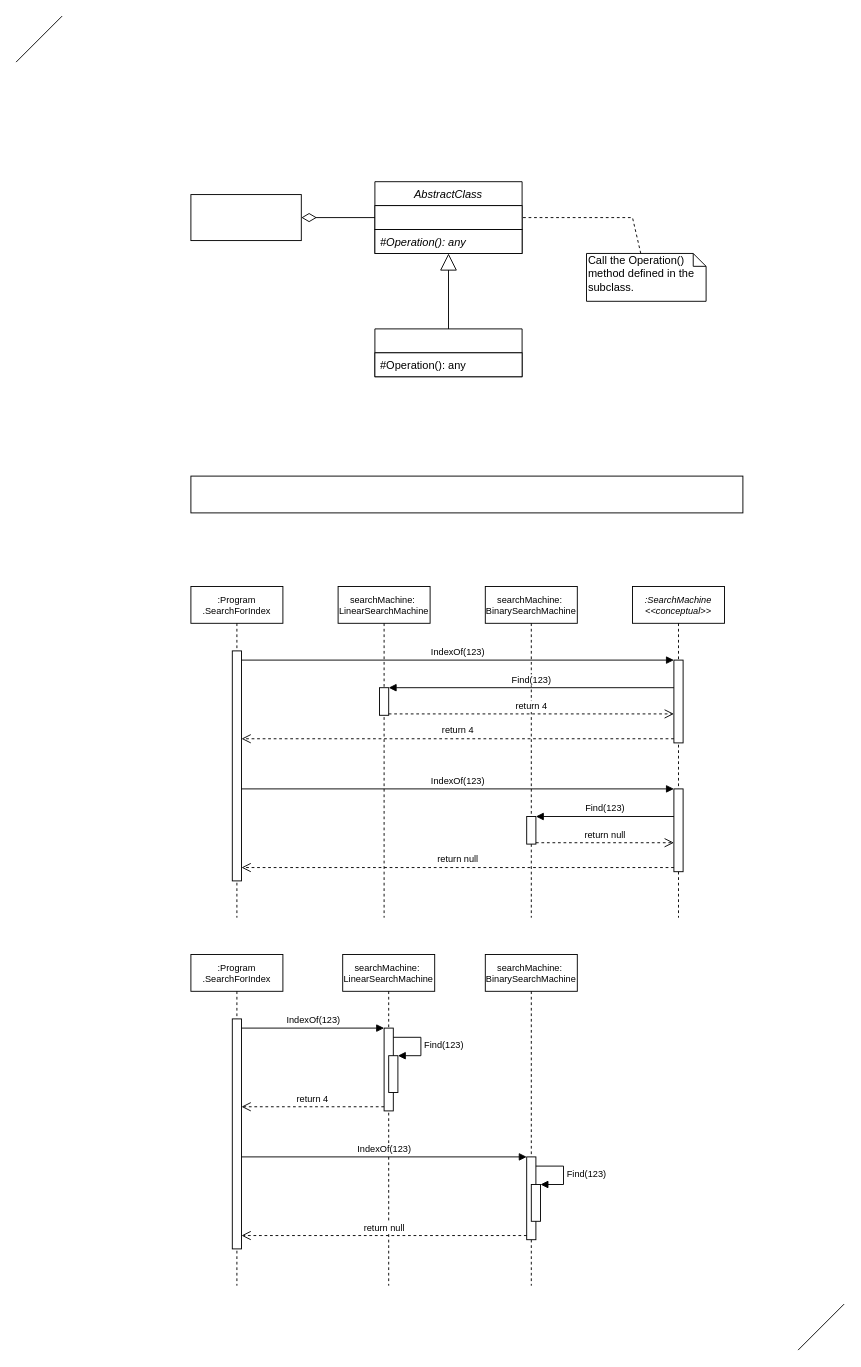
This 861x1367 diagram has some shape labels left out. Here are the shapes that lost their labels. From the top down, the box of each, then its label:
(190, 194, 301, 241): Client
(374, 205, 522, 230): +TemplateMethod(): any
(374, 328, 522, 377): ConcreteClass
(190, 475, 743, 513): 600 px MAX width
